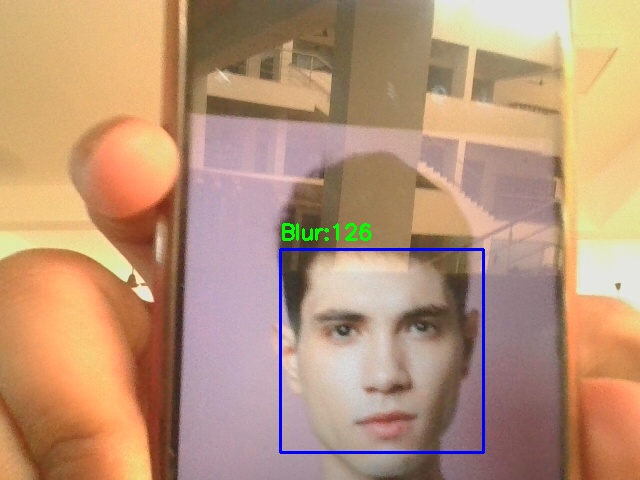fake: (280, 249, 483, 452)
